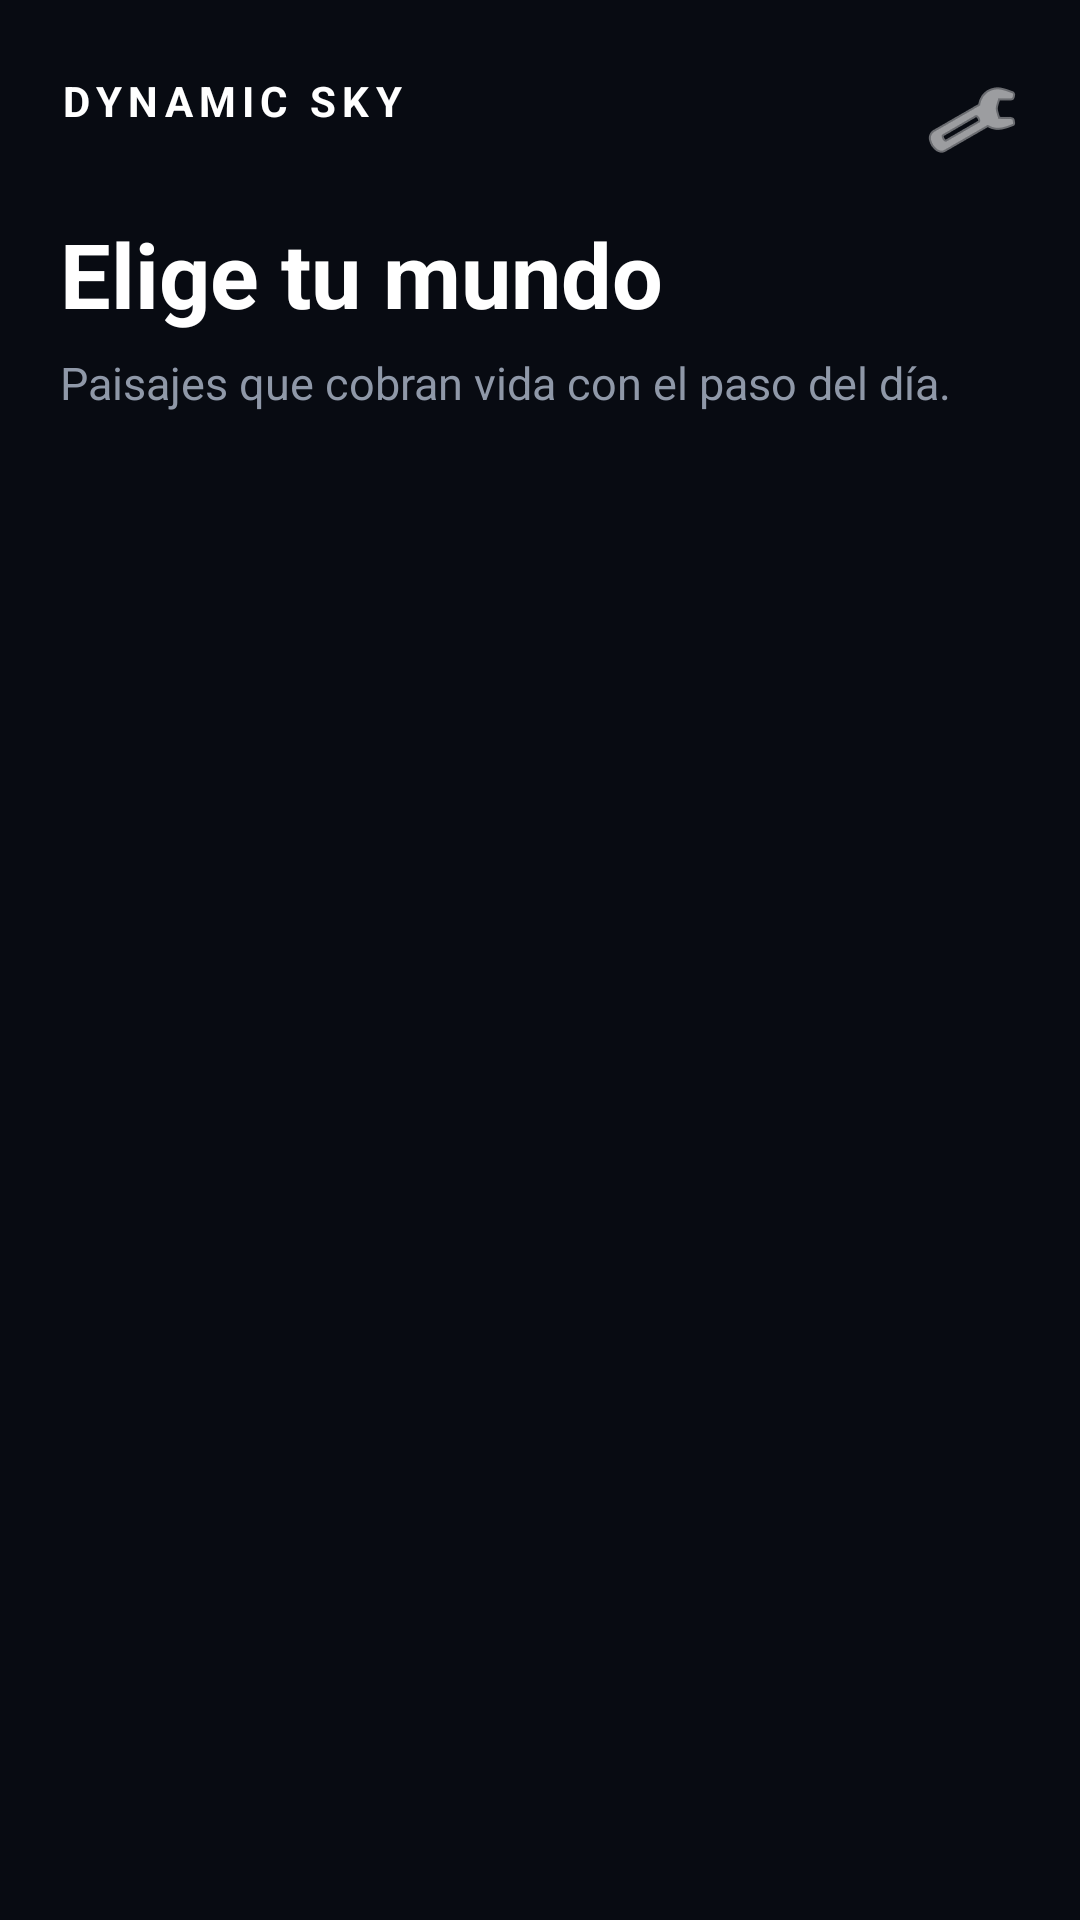

Icons on this 1080px x 1920px Android screen, each with the point to tap as point (x, y):
Ajustes: point (972, 120)
